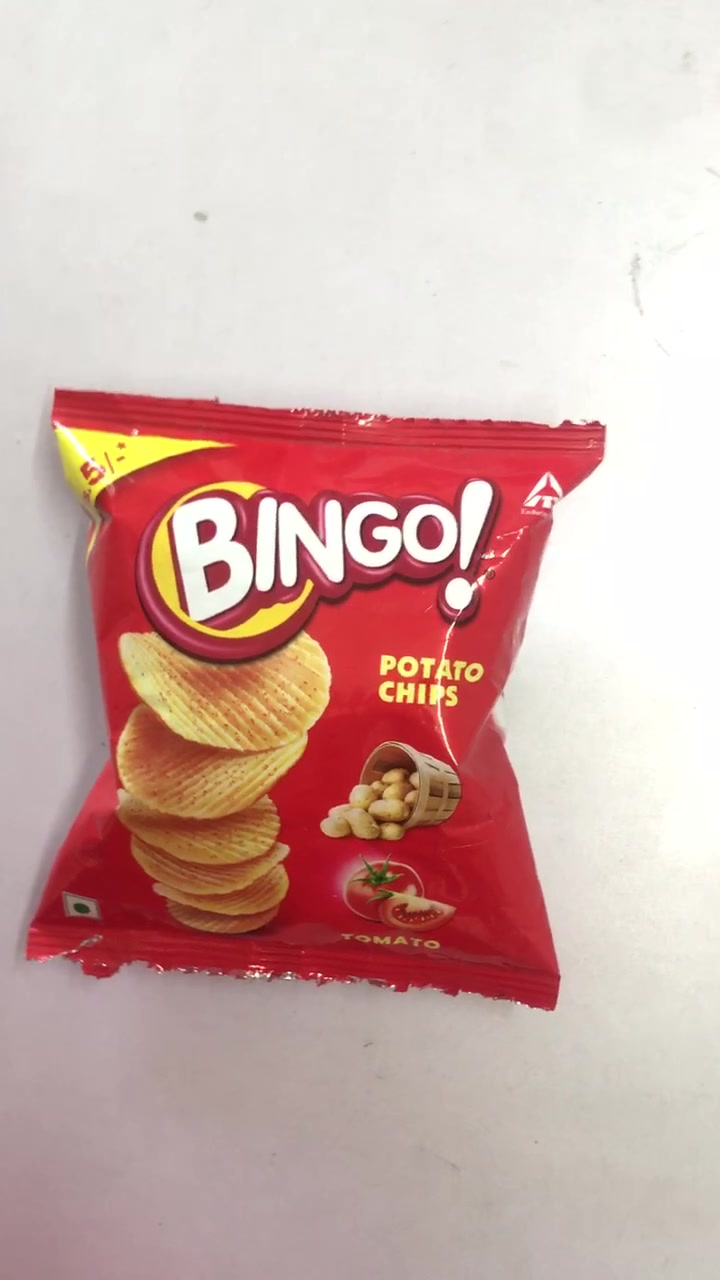Bingo: (28, 388, 591, 1010)
